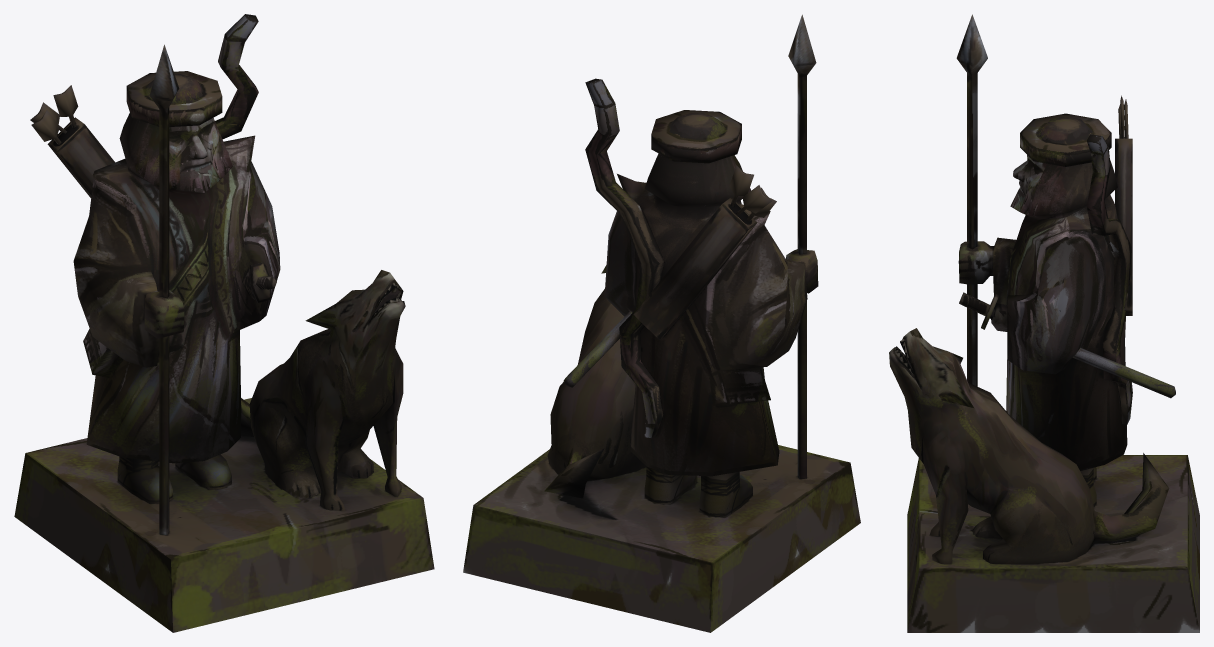
The model's file is PRP_StatueAinuHero.FBX.
The picture shows the model from 3 angles, left to right: view 1: azimuth 30°, elevation 25°; view 2: azimuth 150°, elevation 25°; view 3: azimuth 270°, elevation 25°; orthographic projection. The views are drawn at different scales.
Visible parts, largest first — view 1: PRP_StatueAinuHero; view 2: PRP_StatueAinuHero; view 3: PRP_StatueAinuHero.
Boxes of the visible parts, x1=… form: PRP_StatueAinuHero: x1=14, y1=14, x2=434, y2=632; PRP_StatueAinuHero: x1=463, y1=14, x2=860, y2=632; PRP_StatueAinuHero: x1=889, y1=14, x2=1199, y2=632.
Bounding box in the file's own units: 252 × 465 × 255.
Materials: 1 (1 with a texture image).
